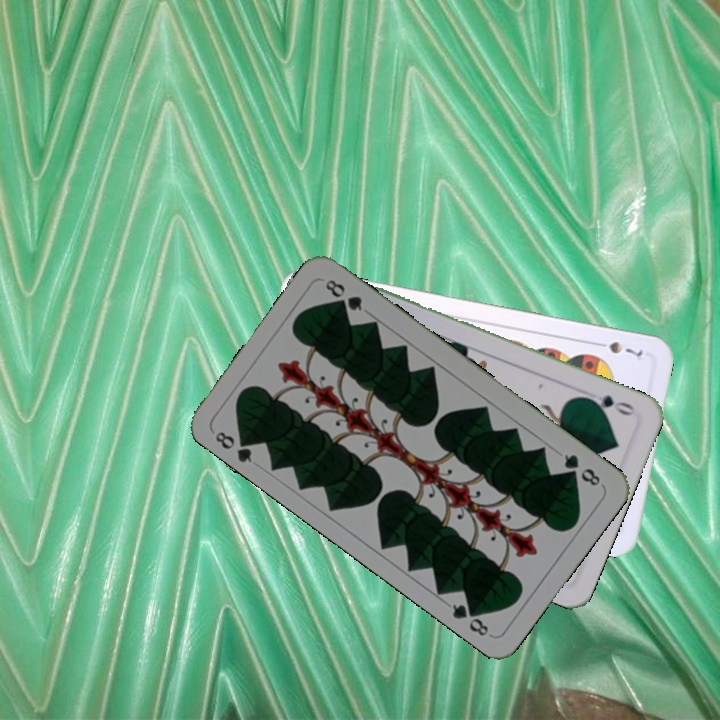G8: (211, 427, 257, 466), (559, 450, 603, 489)
GO: (581, 391, 638, 419)
S7: (590, 337, 649, 363)
